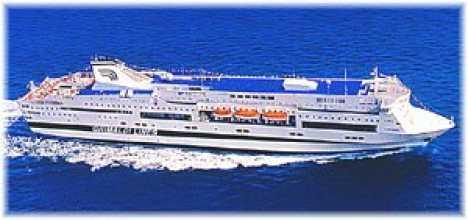youlun: (17, 61, 450, 151)
